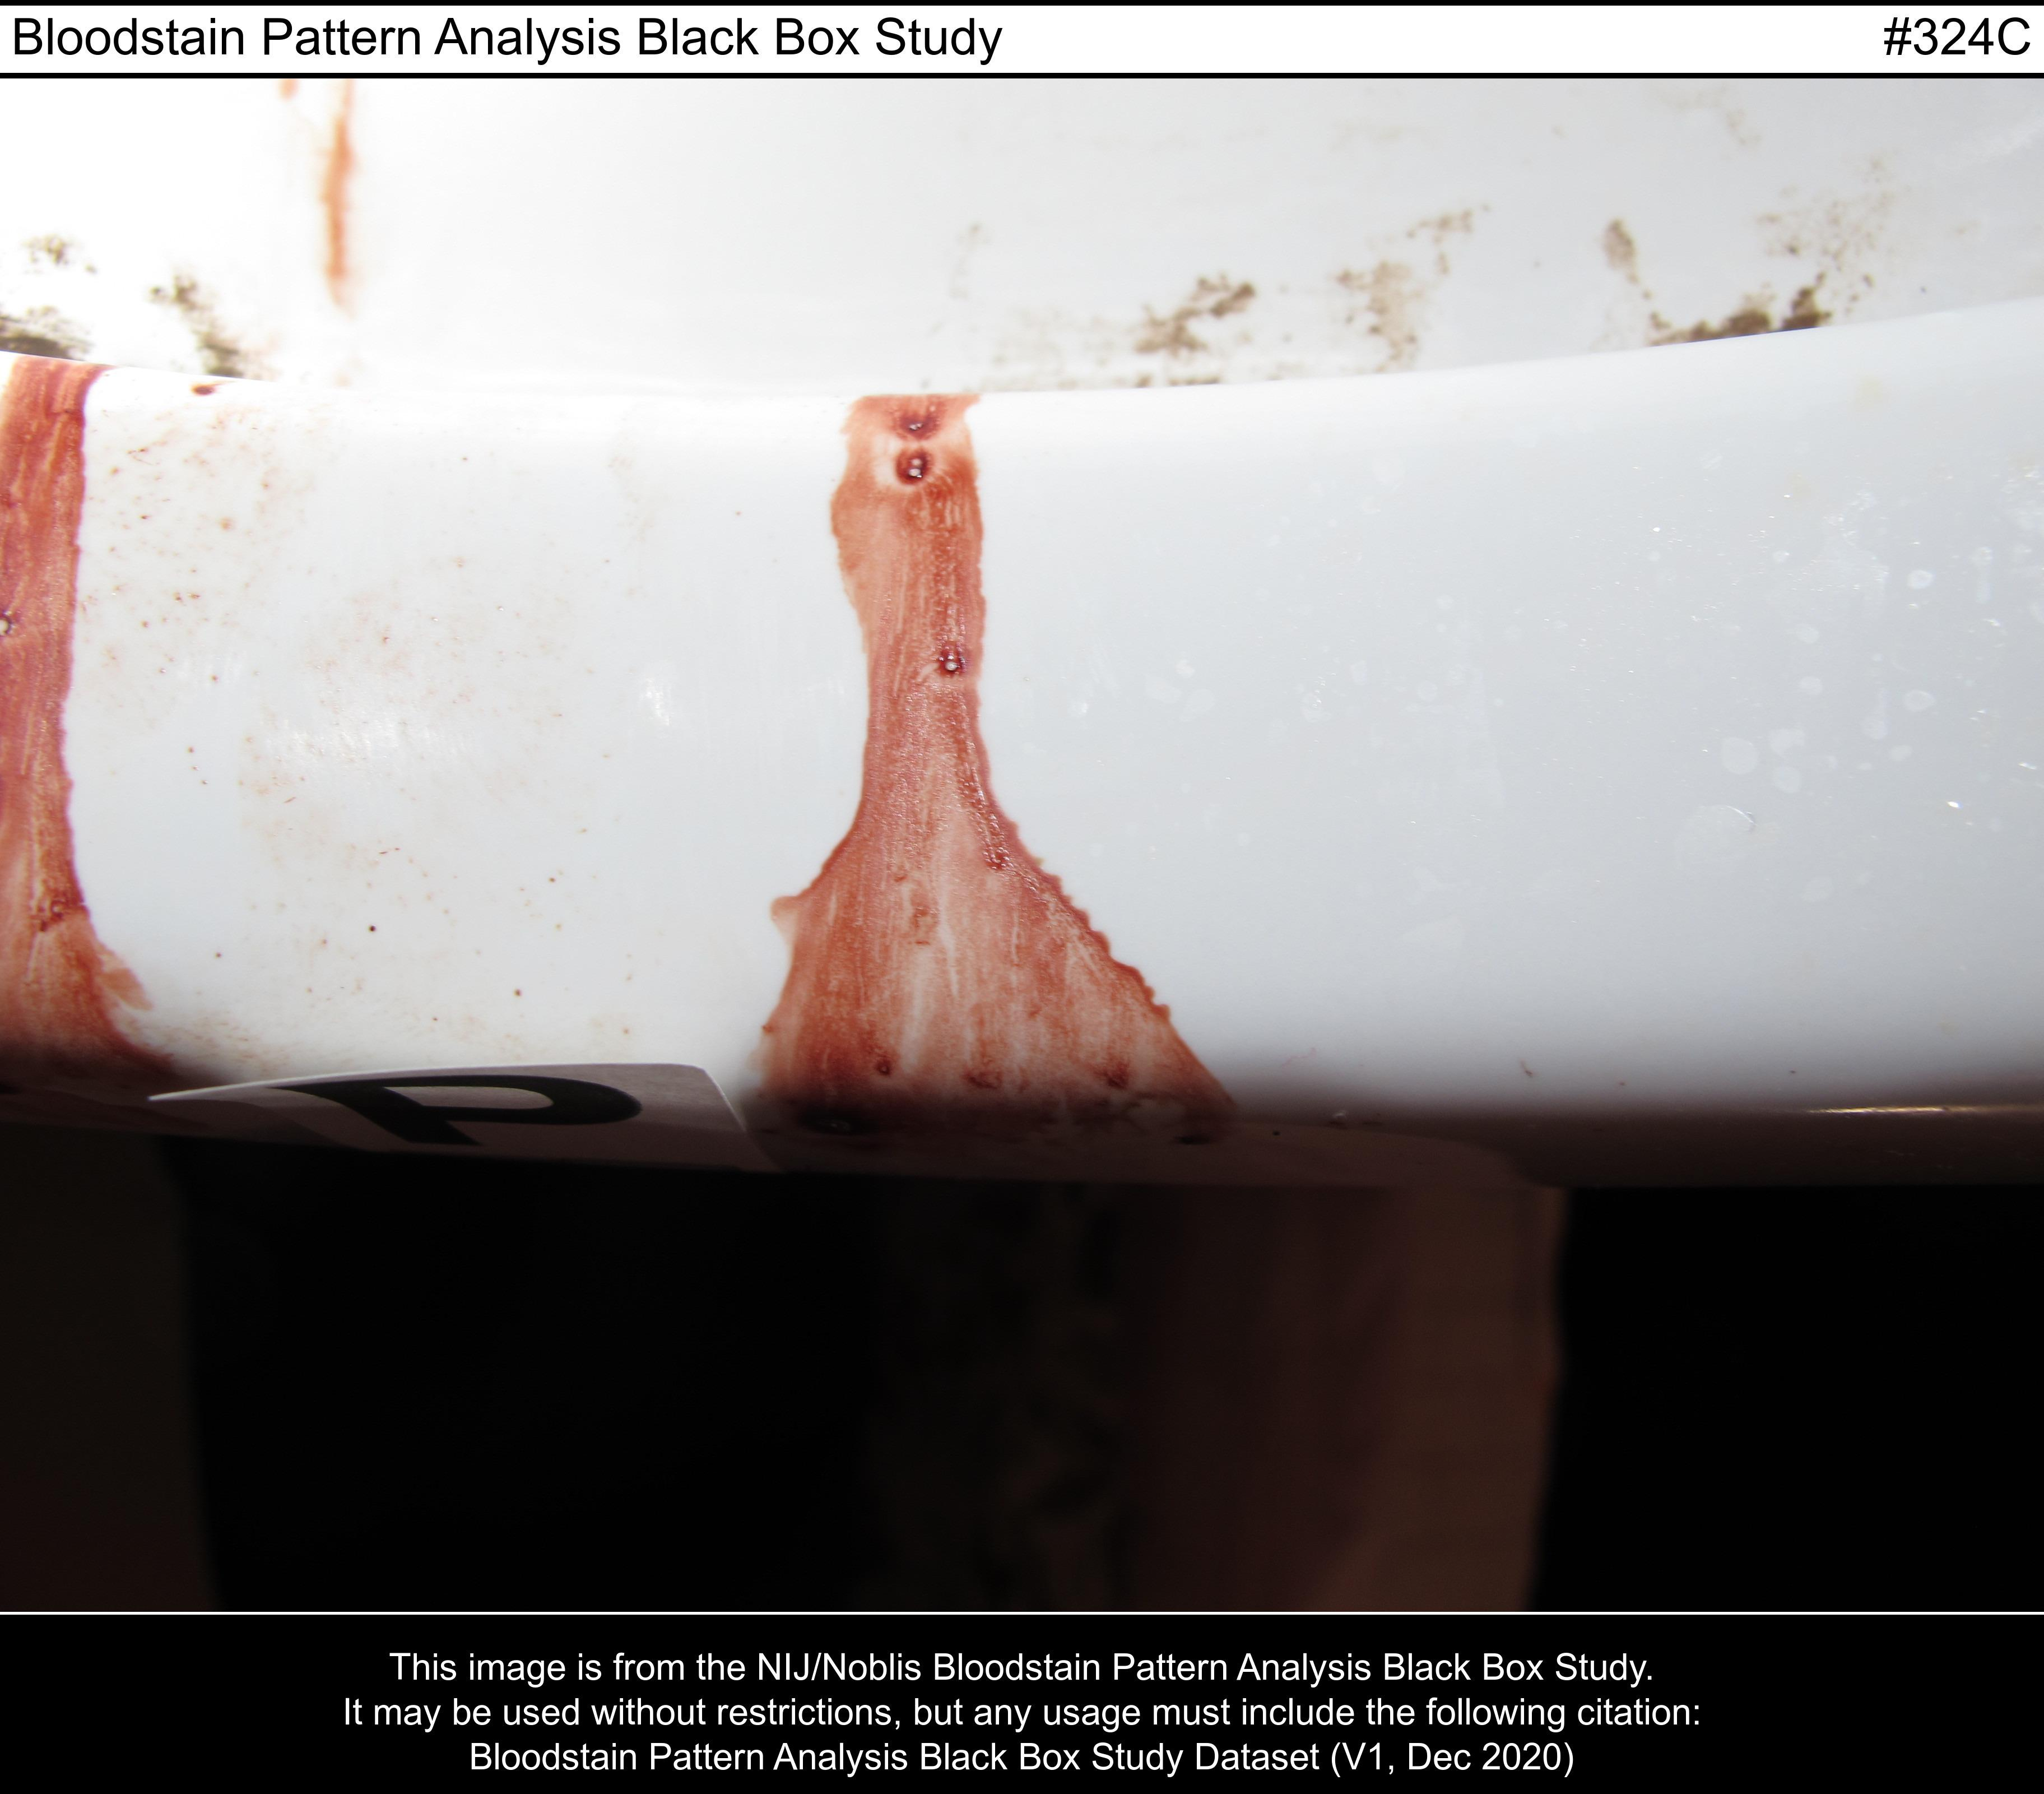Passive: (700, 370, 1260, 1208), (0, 304, 210, 1199)
